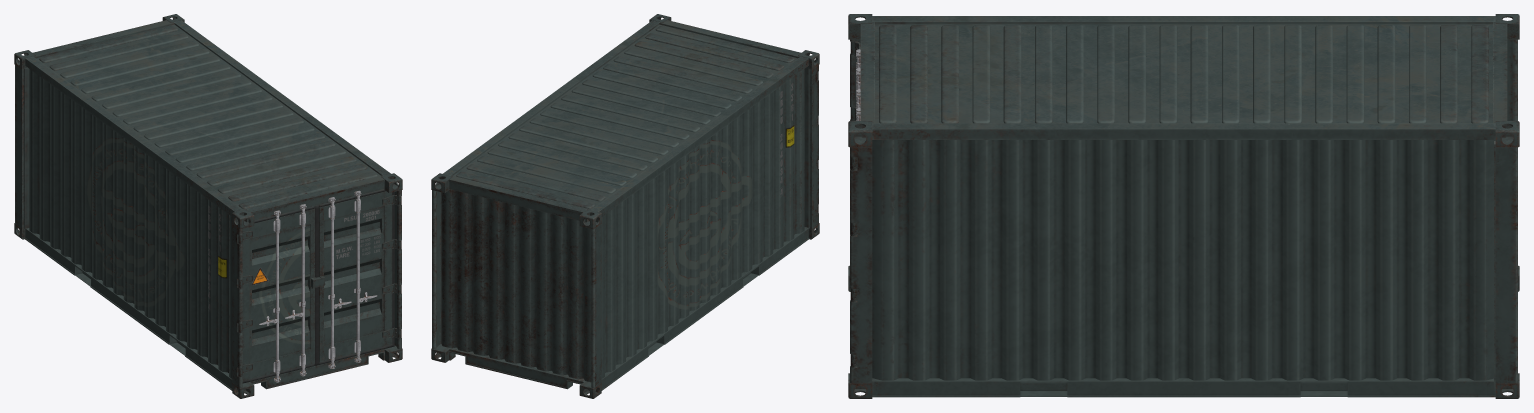
The model's file is container_1.obj.
The picture shows the model from 3 angles, left to right: view 1: azimuth 30°, elevation 25°; view 2: azimuth 150°, elevation 25°; view 3: azimuth 270°, elevation 25°; orthographic projection. The views are drawn at different scales.
Parts seen in each view (by area): view 1: container; view 2: container; view 3: container.
Part boxes in pixels (x1=…): container: x1=14, y1=14, x2=402, y2=398; container: x1=431, y1=14, x2=819, y2=398; container: x1=848, y1=14, x2=1519, y2=398.
Bounding box in the file's own units: 2.54 × 2.7 × 6.11.
